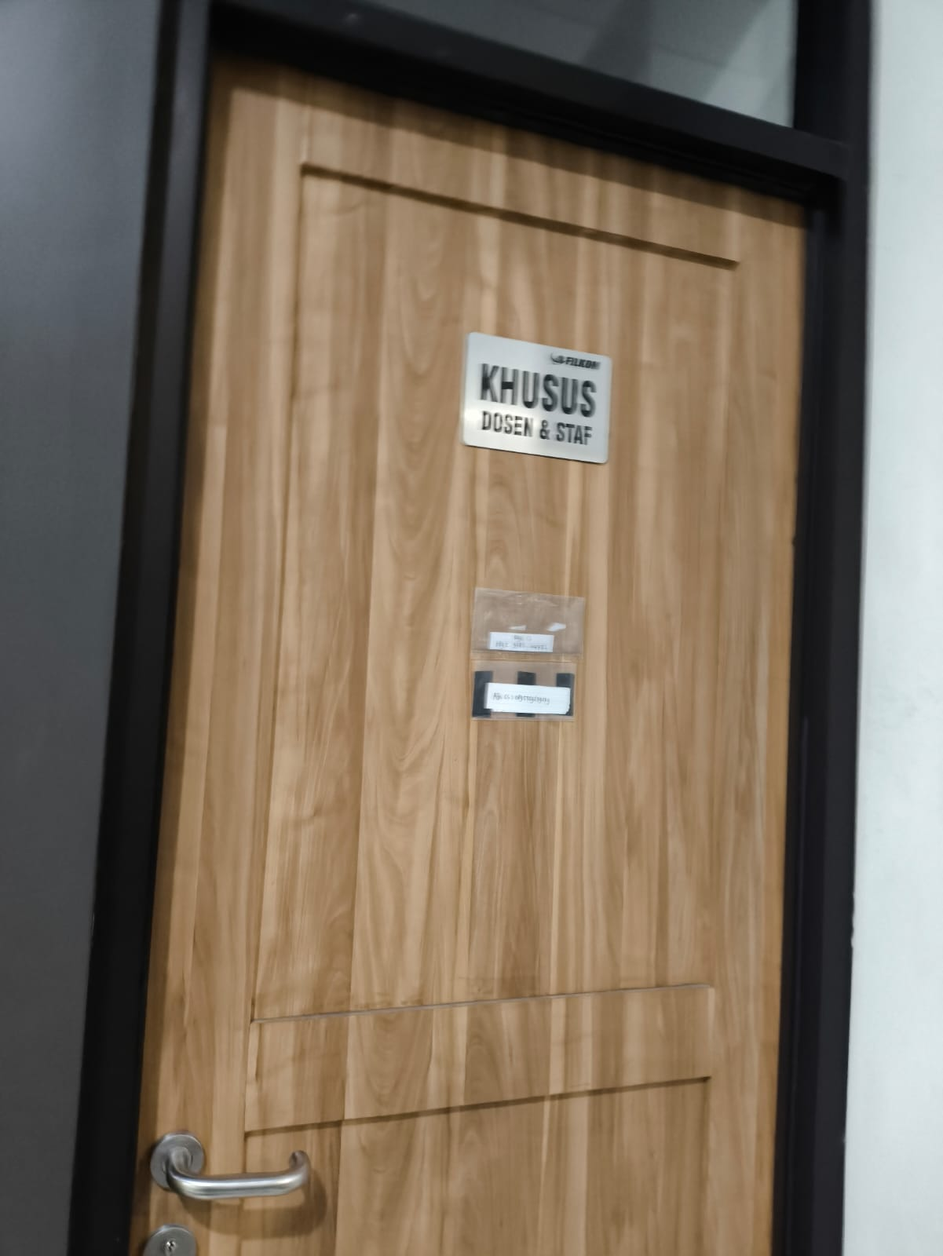ruang khusus dosen dan staff: (451, 324, 620, 470)
